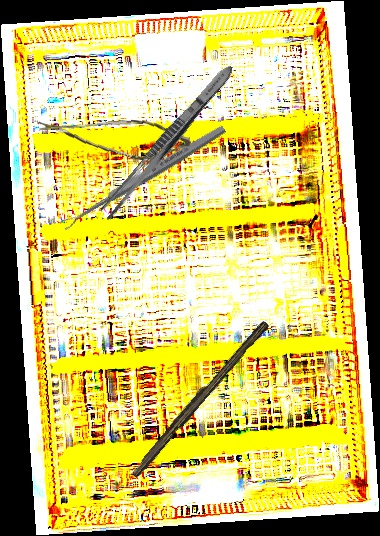Dressing Forceps: (96, 59, 239, 224)
Micro Scissor: (37, 108, 192, 169)
Scalpel Handle: (128, 316, 270, 481)
Surgical Spoon: (59, 123, 228, 231)
